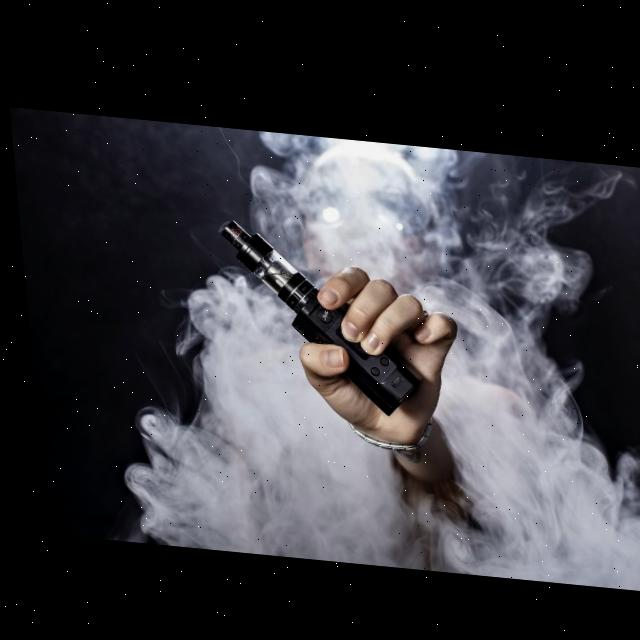vape: (213, 213, 422, 410)
